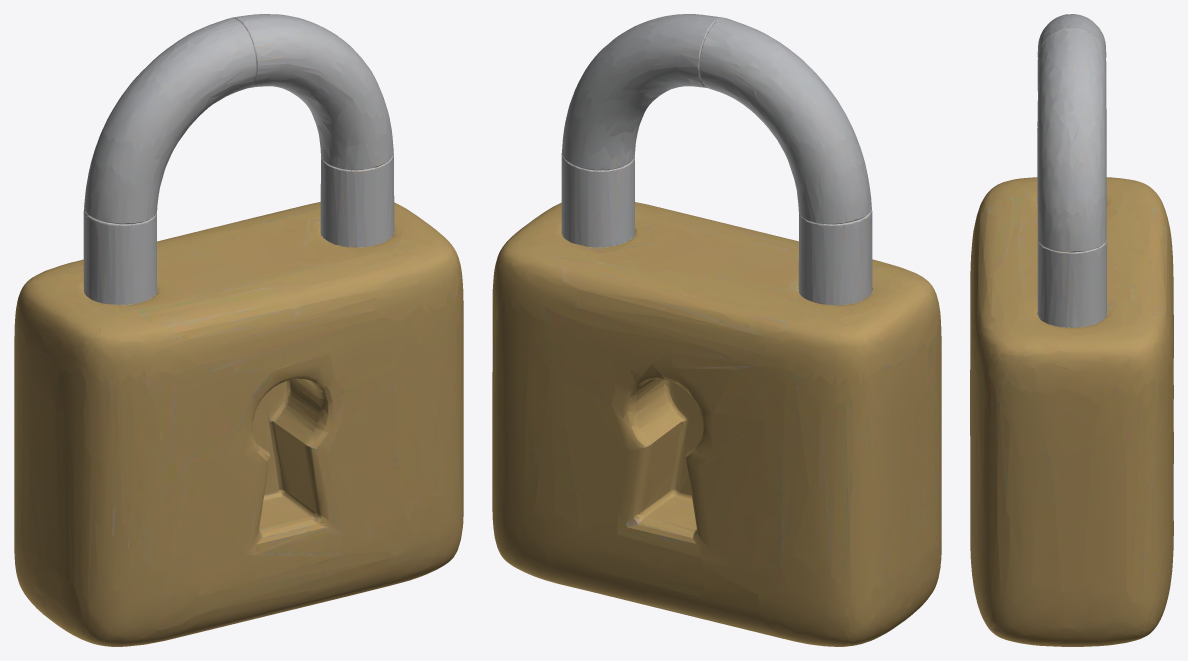
File: hangslot.glb
The picture shows the model from 3 angles, left to right: view 1: azimuth 30°, elevation 25°; view 2: azimuth 150°, elevation 25°; view 3: azimuth 270°, elevation 25°; orthographic projection. The views are drawn at different scales.
Visible parts, largest first — view 1: Mesh_0; view 2: Mesh_0; view 3: Mesh_0.
Boxes of the visible parts, x1,y1,x2,y2 form: Mesh_0: (14, 14, 463, 646); Mesh_0: (492, 14, 941, 646); Mesh_0: (970, 14, 1173, 646).
Bounding box in the file's own units: 1.38 × 1.9 × 0.6485.
Materials: 1 (1 with a texture image).
